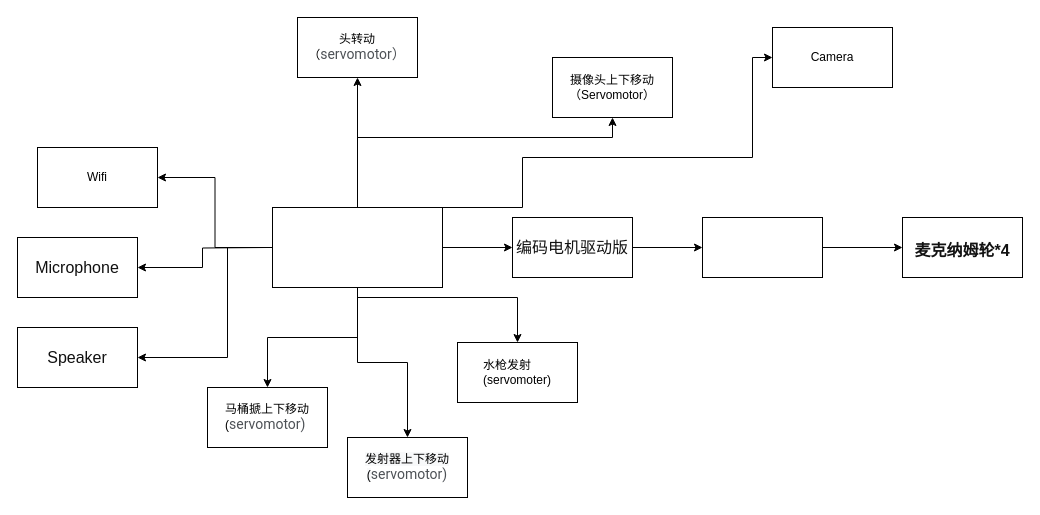
Some shapes in this 1040 by 515 pixel diagram are drawn without their labels. Each missing label, with the centre of its shape:
Brain (Raspberry Pi or Jetson Nano): (357,247)
编码电机*4: (762,247)
